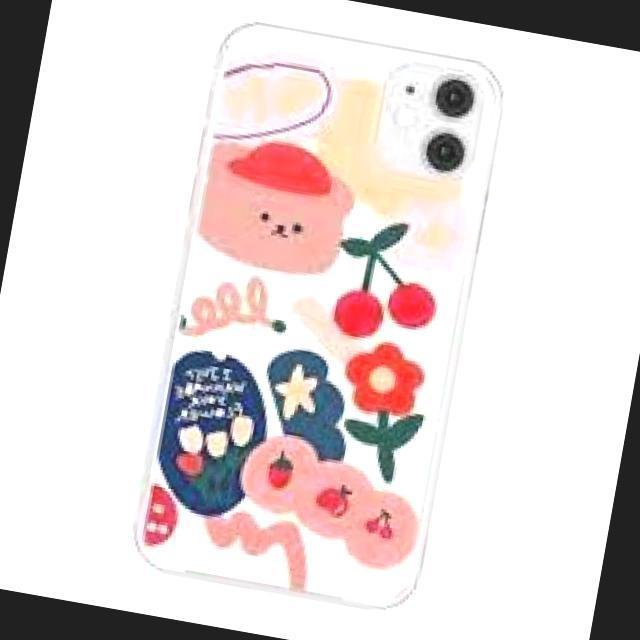lens: (388, 58, 488, 175)
phone: (124, 15, 517, 616)
